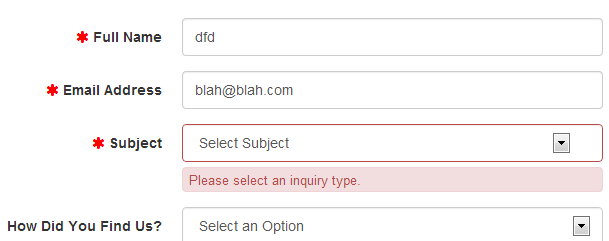error_field: (181, 122, 603, 163)
error_message: (187, 173, 359, 188)
